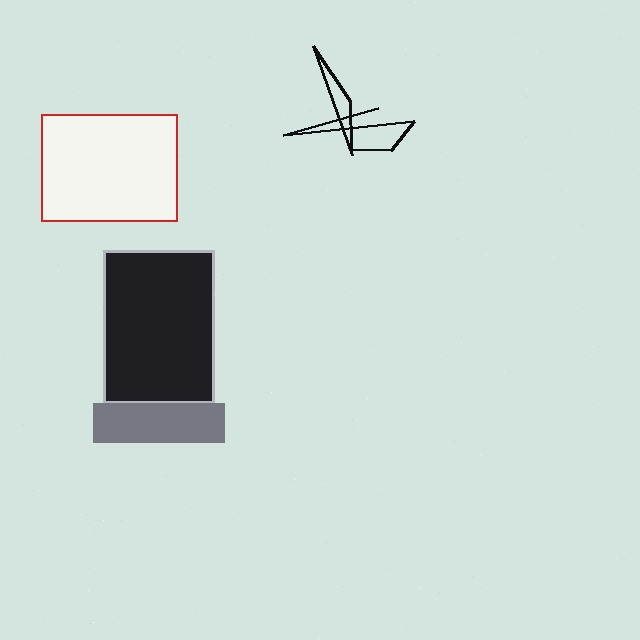book: (41, 114, 177, 221)
crocodile_crack: (269, 34, 424, 225)
laptop: (103, 250, 214, 442)
